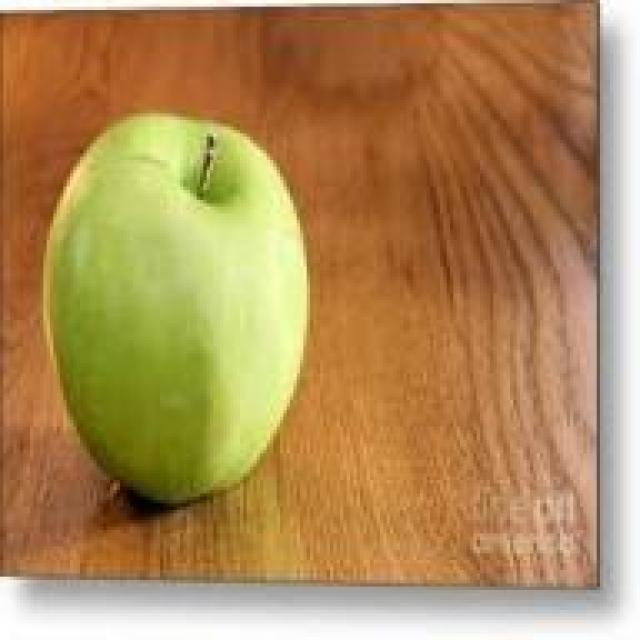apple: (53, 117, 307, 523)
